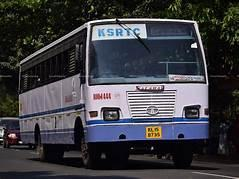Bus: (19, 18, 210, 170)
